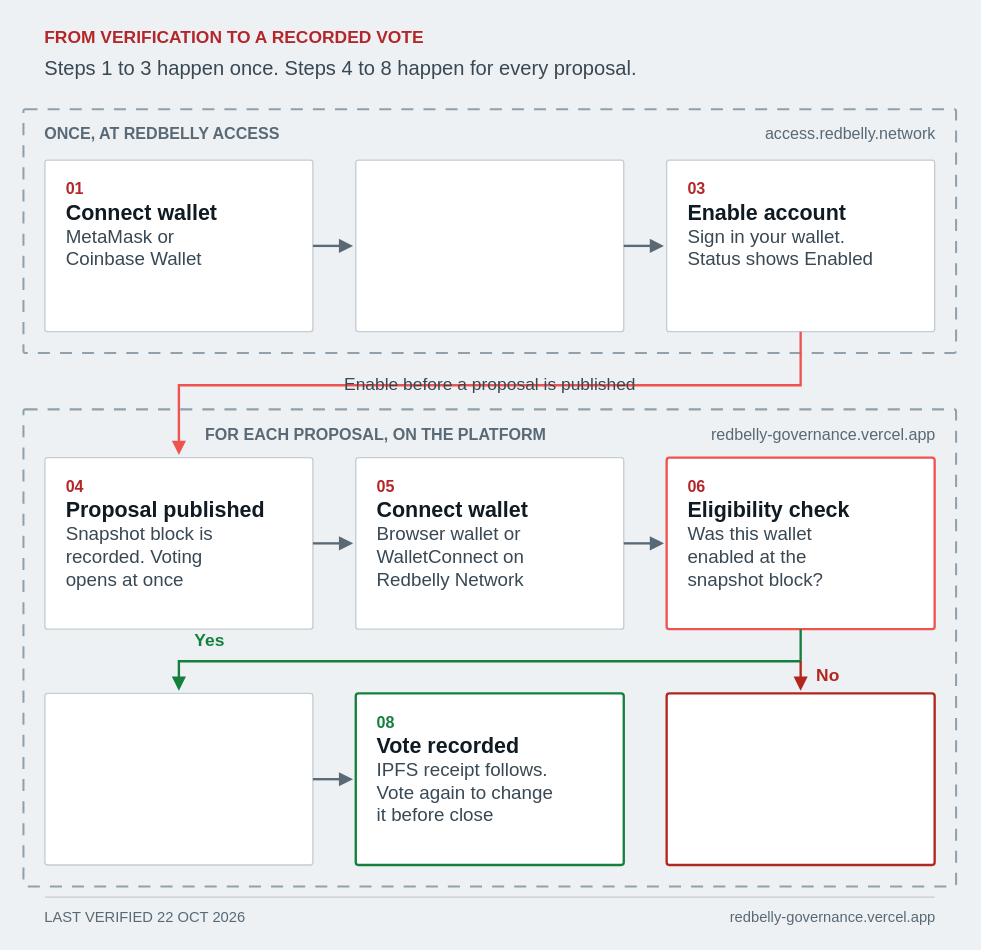
The diagram is 981 pixels wide and 950 high, and some of its shapes have lost their labels. Each missing label, with the centre of its shape:
"02 Verify identity Passport and biometric check with Averer" goes at point 489,245.
"07 Choose and sign A signature, not a transaction. No gas" goes at point 178,778.
"NO Not this proposal Voting power is 0. The wallet can vote on later proposals" goes at point 800,779.
